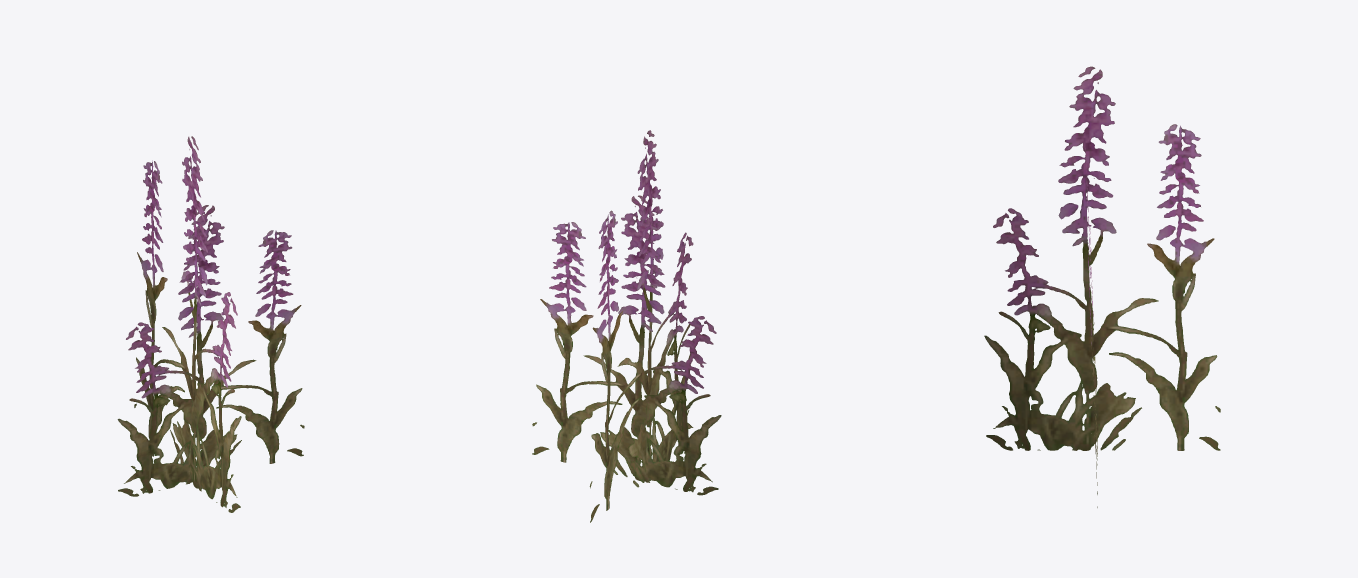
File: Vegetation_LavenderFlower.glb
3 renders of one model, left to right at view 1: azimuth 30°, elevation 25°; view 2: azimuth 150°, elevation 25°; view 3: azimuth 270°, elevation 25°, orthographic. The views are drawn at different scales.
Visible parts, largest first — view 1: xiutz_flowers01_02; view 2: xiutz_flowers01_02; view 3: xiutz_flowers01_02.
Part boxes in pixels (x1=…): xiutz_flowers01_02: x1=117, y1=136, x2=304, y2=512; xiutz_flowers01_02: x1=532, y1=130, x2=721, y2=522; xiutz_flowers01_02: x1=984, y1=66, x2=1220, y2=507.
Size of the model in its own units: 0.5159 by 0.4951 by 0.5122.
Materials: 1 (1 with a texture image).
